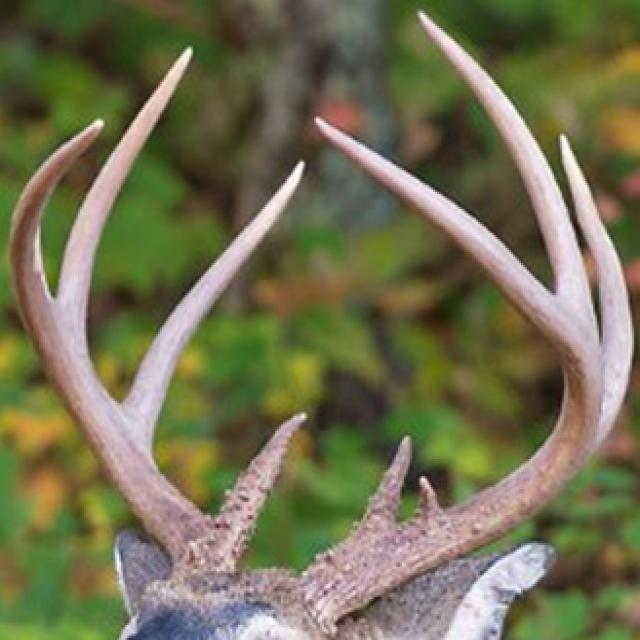E1: (407, 476, 443, 520)
L-F: (296, 115, 606, 637)
L-G1: (346, 434, 413, 539)
L-G2: (560, 131, 635, 443)
L-G3: (416, 8, 600, 349)
R-F: (7, 117, 236, 577)
R-G1: (214, 411, 309, 555)
R-G2: (122, 158, 307, 455)
R-G3: (56, 45, 196, 380)
